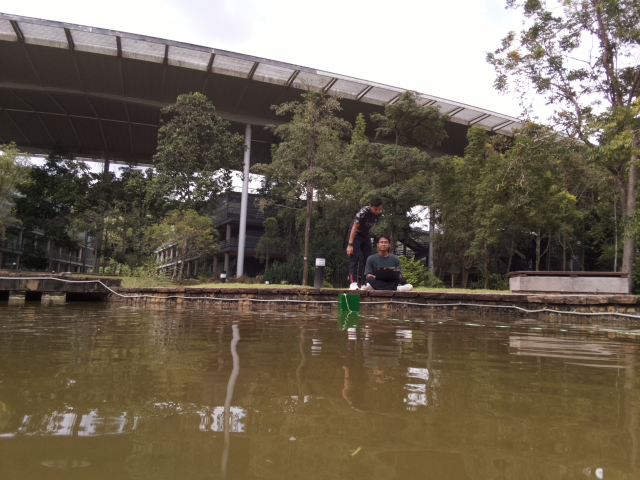obstacle: (337, 292, 361, 314)
